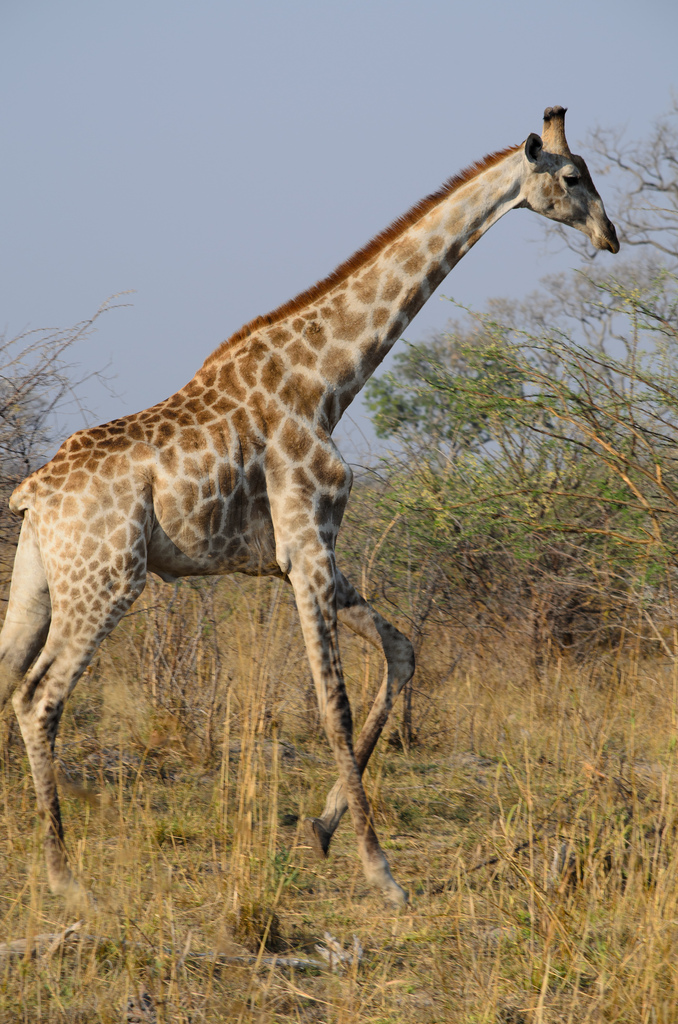giraffe: (40, 106, 625, 906)
